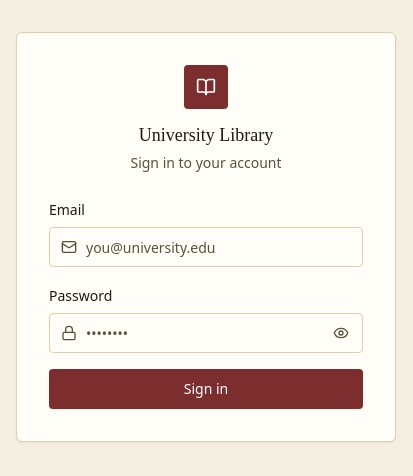
Test case: LoginPage › shows a generic error on 401 without revealing the field
This screenshot has width=413, height=476.
Type "user@uni.edu" into the field labelled "Email".
click(206, 247); type("user@uni.edu")  # box [49,227,363,267]
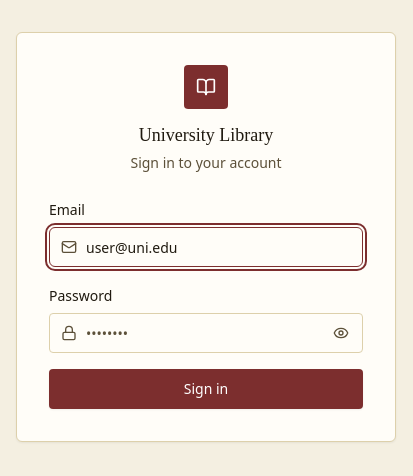
Type "secret123" into the password field labelled "Password".
click(206, 333); type("secret123")  # box [49,313,363,353]
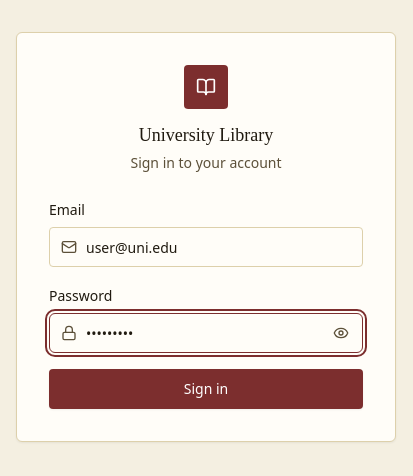
Click the button "Sign in".
click(206, 389)  # box [49,369,363,409]
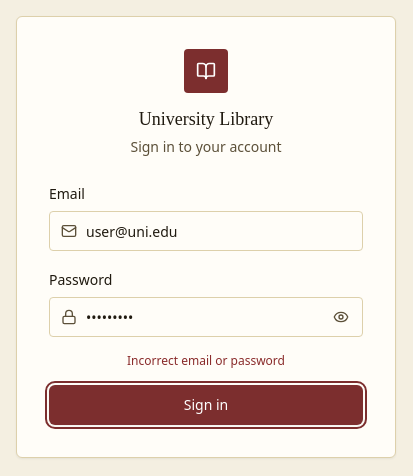
Now the text "Incorrect email or password" is shown, box [127,352,285,369]
